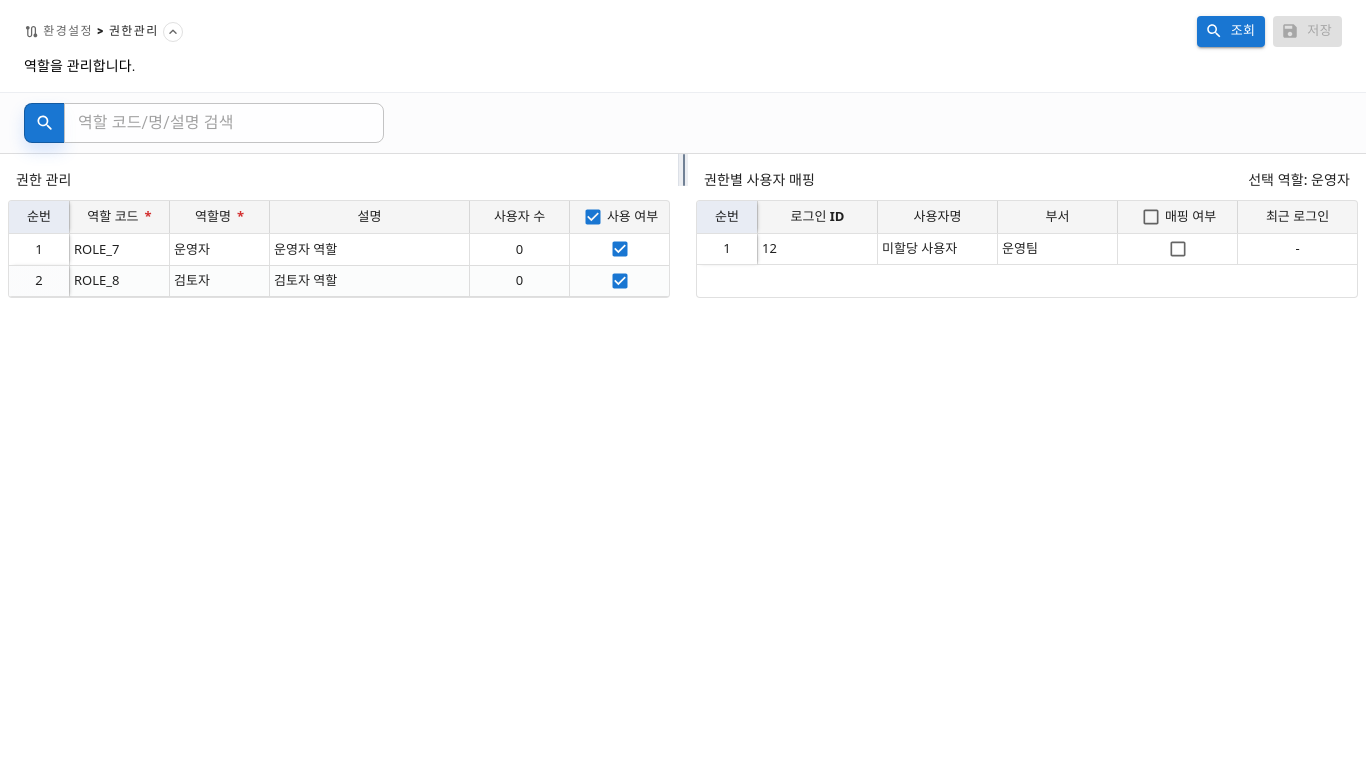
Test: RoleManagementPage notifications › discards the pending mapping and moves on the shared continue action
Click the checkbox named "매핑 여부 12".
click(1178, 249)  # box [1168,239,1188,259]
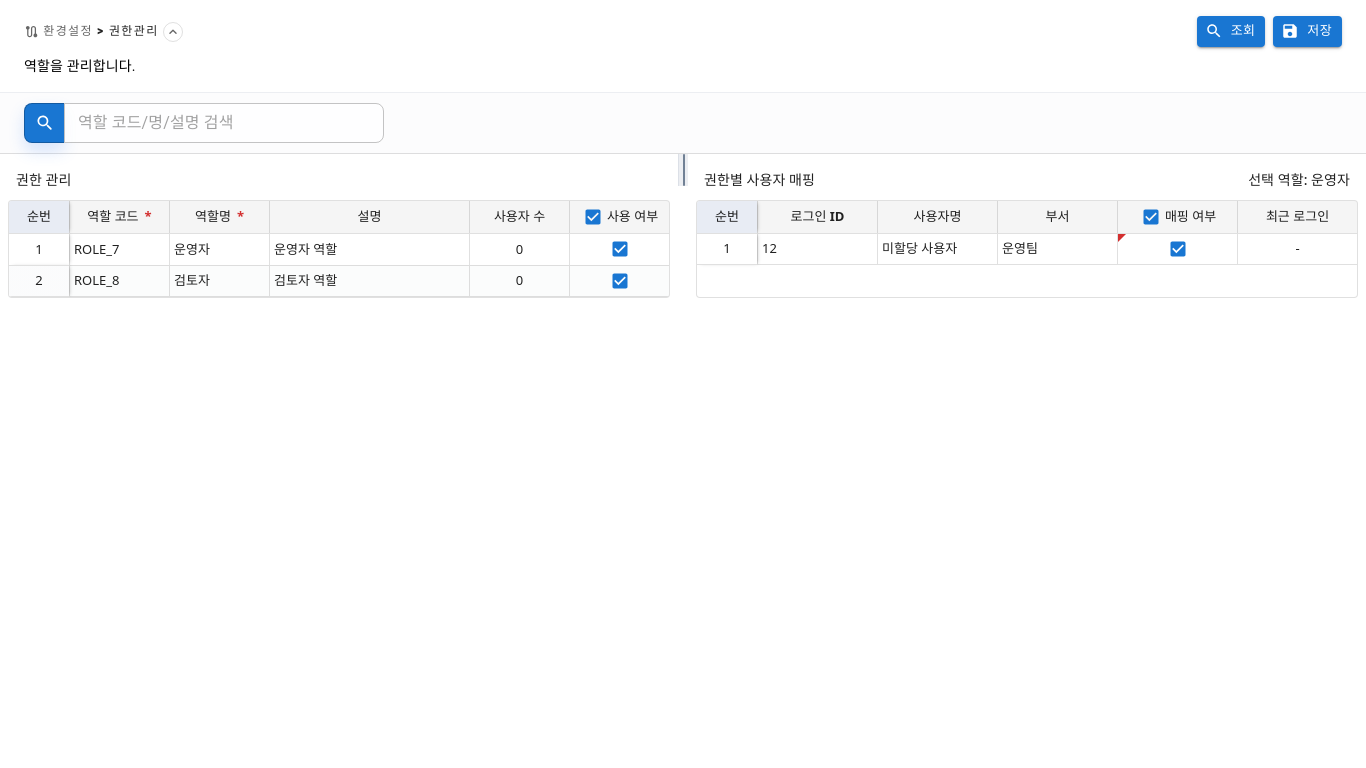
Click the cell "검토자".
click(219, 281)  # box [169,265,269,297]
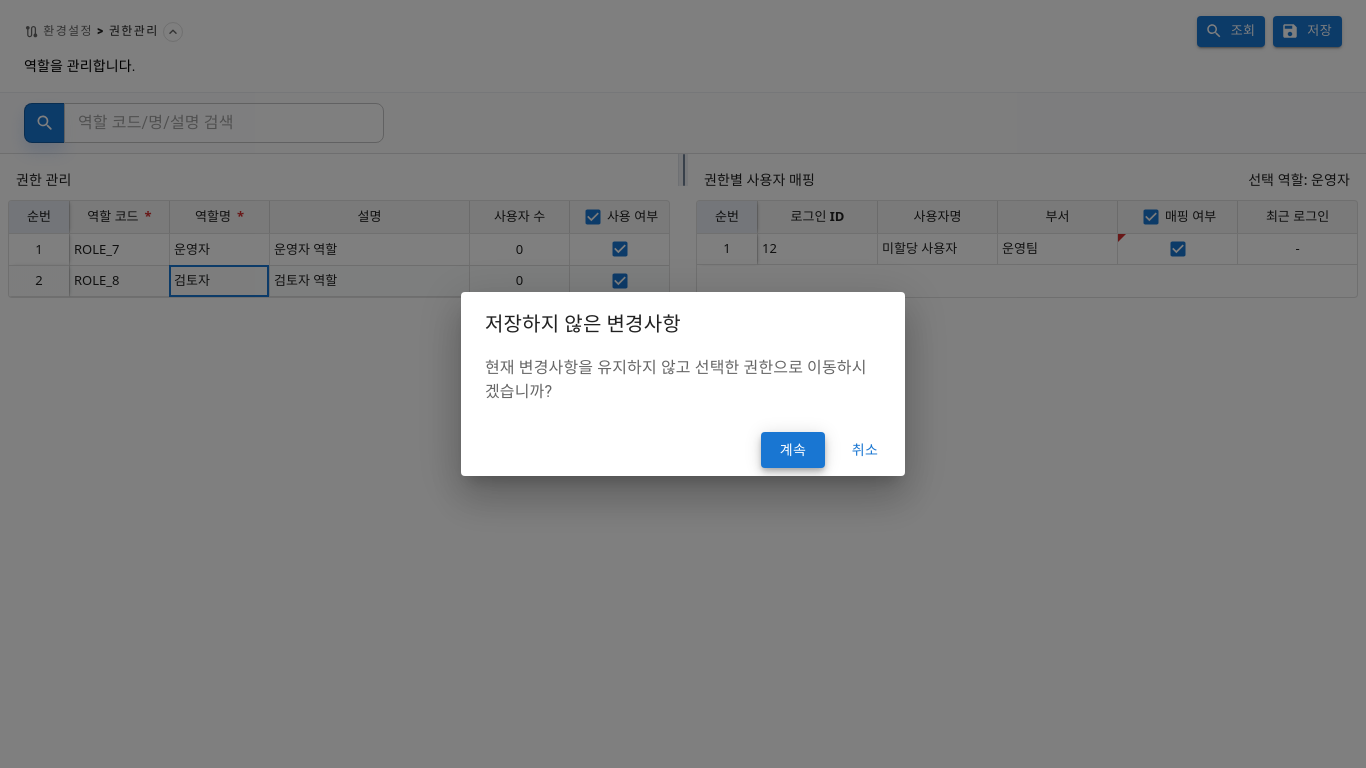
Click the button "계속".
click(793, 450)  # box [761,432,825,468]
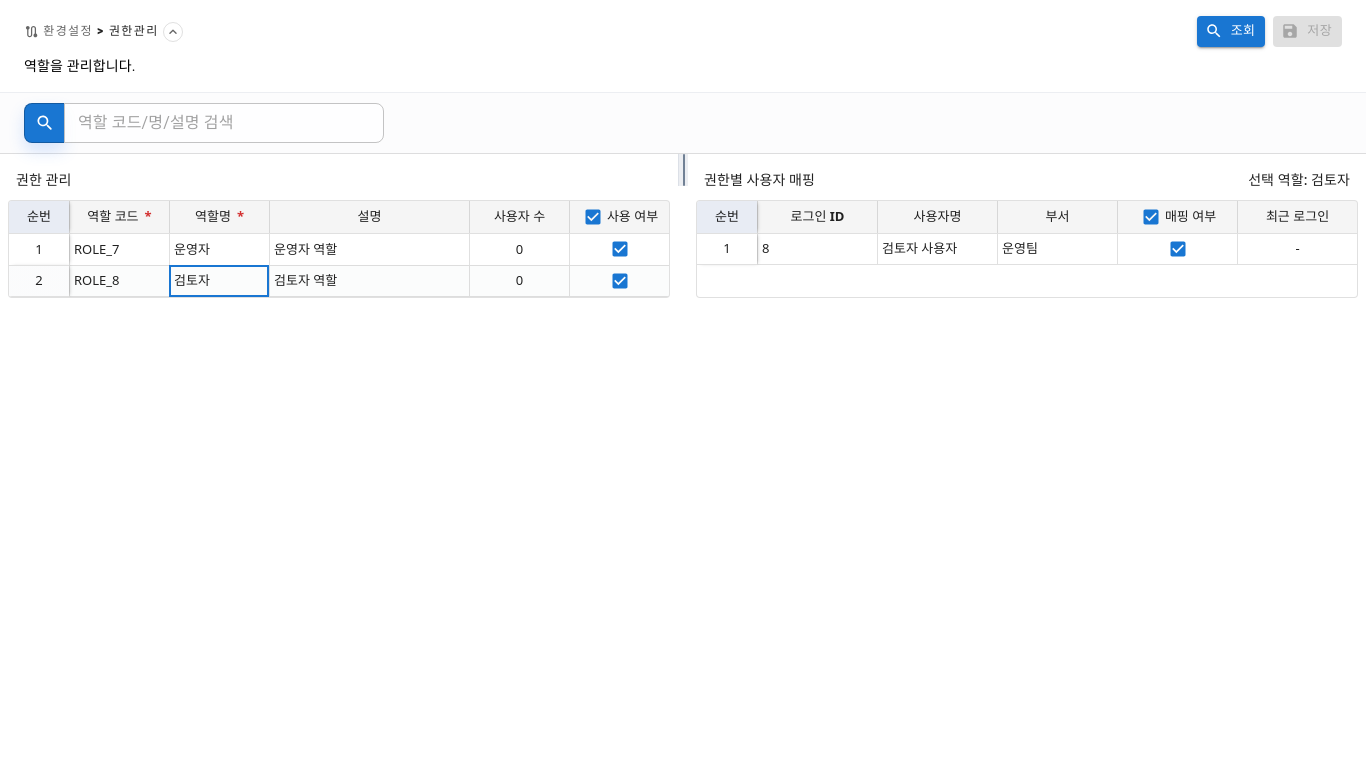
Expected: the heading "저장하지 않은 변경사항" is gone
Expected: the heading "선택 역할: 검토자" is shown, [1248,170,1350,192]
